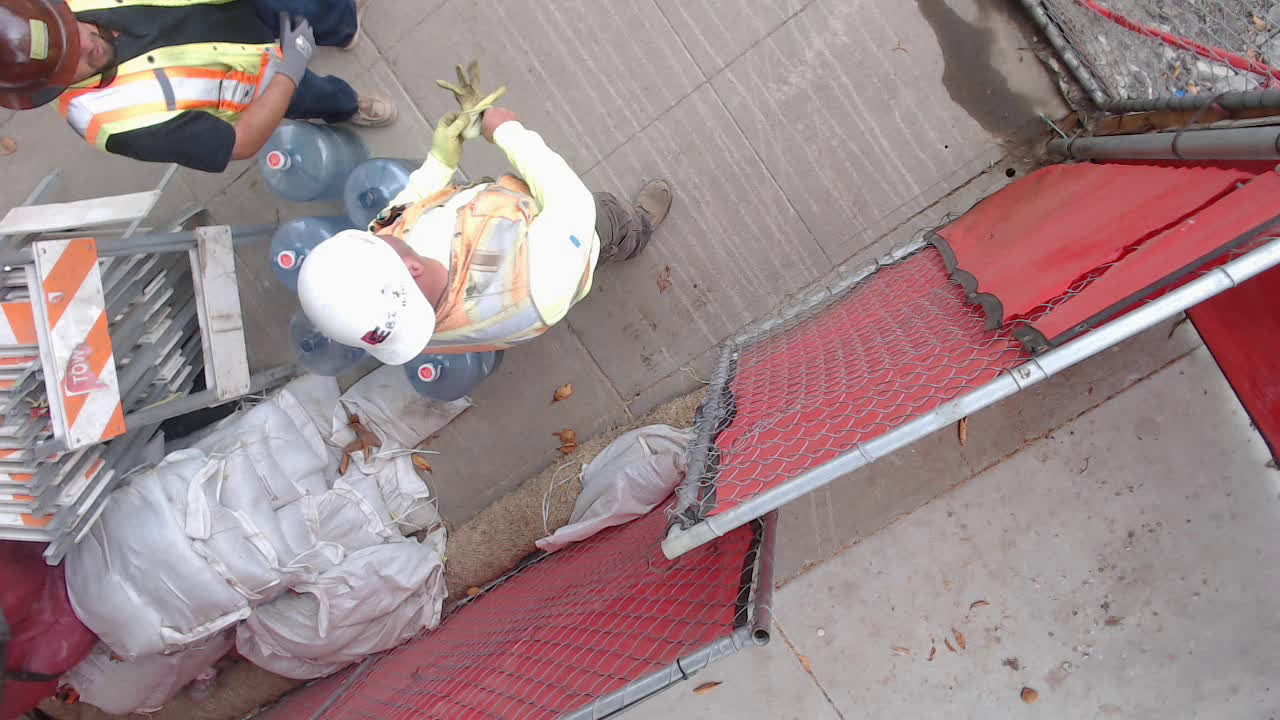hardhat: (293, 228, 439, 376)
safetyvest: (57, 1, 291, 152), (369, 173, 555, 358)
